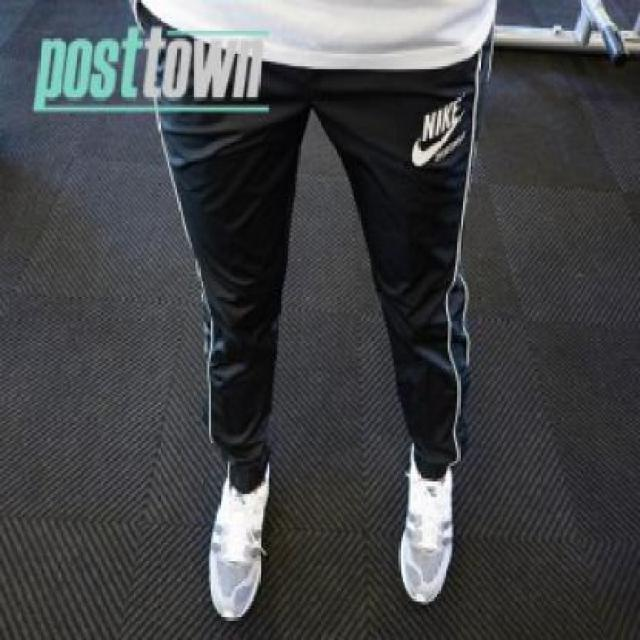Nike: (408, 92, 463, 163)
